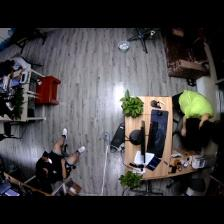normal: (31, 130, 84, 179), (173, 90, 219, 141), (1, 55, 36, 76)
